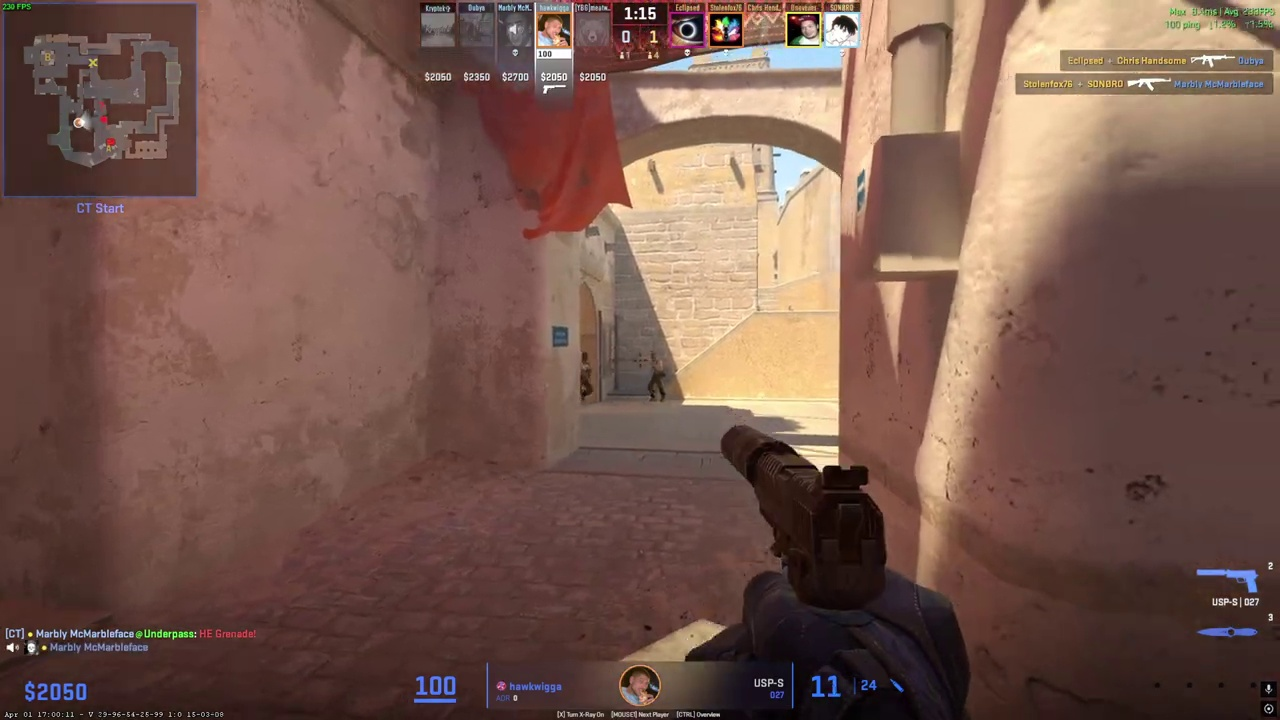Terrorist: (647, 352, 666, 402), (580, 351, 593, 402)
